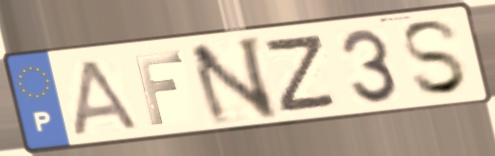3: (337, 25, 402, 105)
A: (71, 56, 143, 138)
F: (130, 49, 186, 128)
N: (185, 32, 281, 129)
S: (398, 17, 472, 99)
Z: (263, 31, 340, 116)
